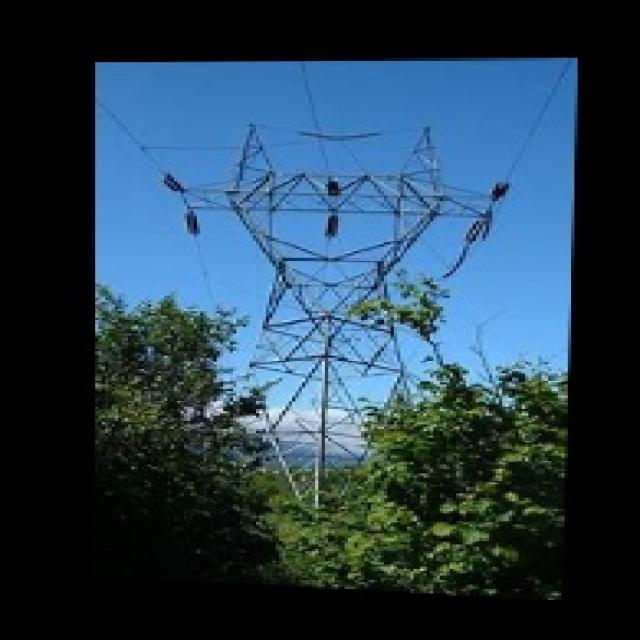utility poles: (93, 263, 311, 558), (313, 292, 527, 558)
